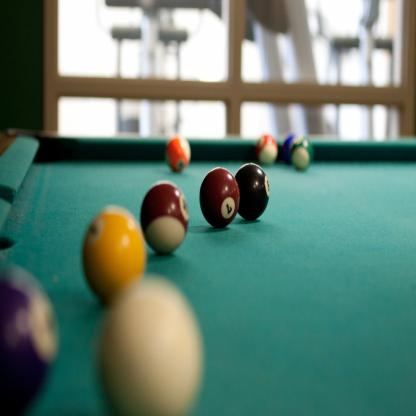Ball: (97, 274, 203, 416), (0, 265, 57, 416), (81, 204, 146, 310), (140, 181, 190, 256), (199, 166, 241, 230), (233, 163, 269, 223), (164, 138, 192, 174), (291, 138, 314, 172), (256, 134, 278, 165), (283, 134, 301, 164)
